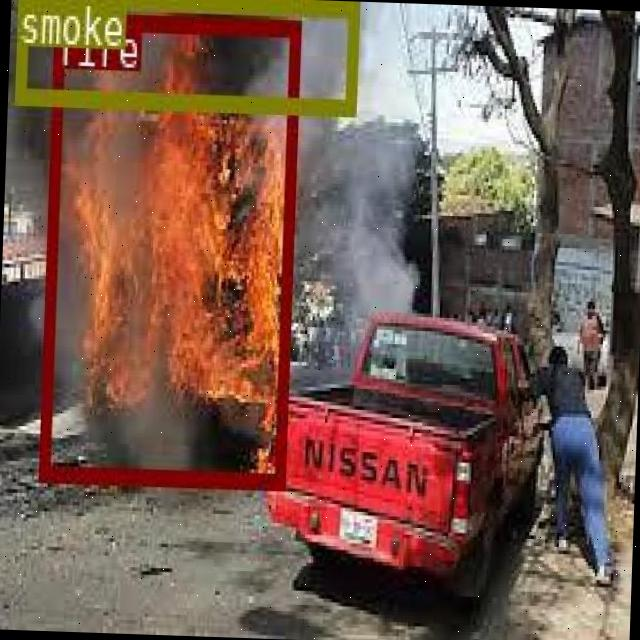fire: (36, 8, 298, 486)
smoke: (12, 0, 355, 114)
